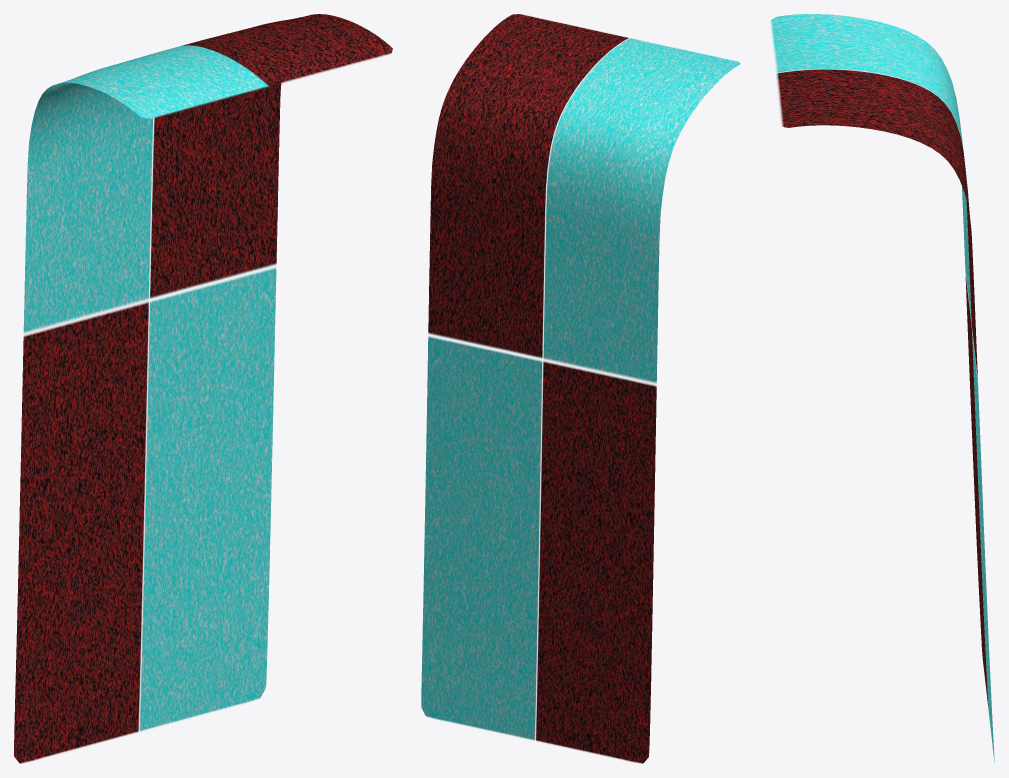
3 views of the same model, side by side, from view 1: azimuth 30°, elevation 25°; view 2: azimuth 150°, elevation 25°; view 3: azimuth 270°, elevation 25° (orthographic). The views are drawn at different scales.
Parts seen in each view (by area): view 1: SM_VFX_MediumWaterfall_LOD0; view 2: SM_VFX_MediumWaterfall_LOD0; view 3: SM_VFX_MediumWaterfall_LOD0.
Part boxes in pixels (bbox=[...]): SM_VFX_MediumWaterfall_LOD0: bbox=[14, 14, 392, 763]; SM_VFX_MediumWaterfall_LOD0: bbox=[421, 14, 740, 763]; SM_VFX_MediumWaterfall_LOD0: bbox=[770, 14, 994, 762].
Size of the model in its own units: 6.61 by 17.25 by 5.45.
1 material, 1 textured.
